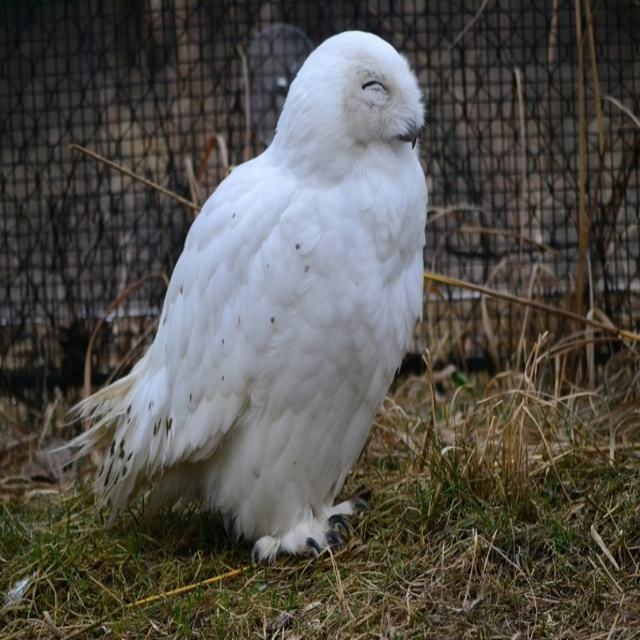Owl: (52, 28, 432, 569)
